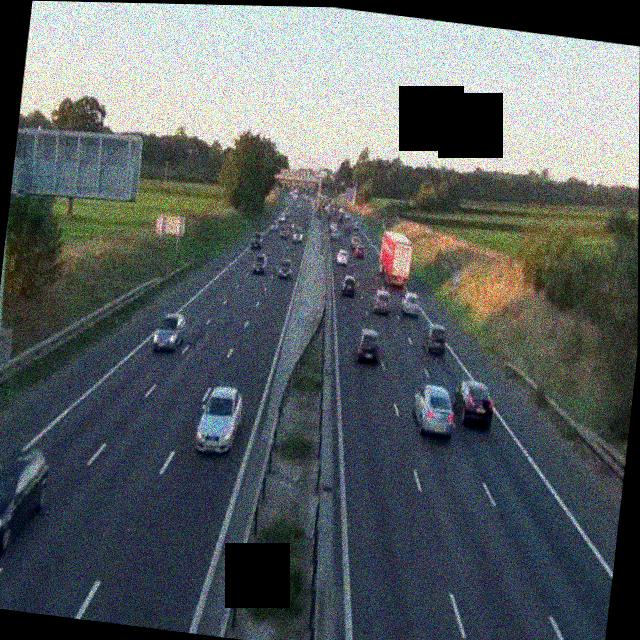car: (0, 441, 52, 568), (193, 382, 243, 455), (410, 382, 456, 440), (451, 378, 497, 429), (152, 310, 188, 354), (353, 327, 382, 365), (421, 323, 448, 357), (370, 288, 393, 316), (398, 291, 421, 318), (339, 272, 357, 296), (251, 252, 268, 274), (276, 256, 292, 278), (335, 246, 349, 266), (248, 231, 262, 250), (353, 241, 367, 259), (291, 226, 305, 244), (280, 226, 291, 240), (330, 226, 339, 239)
truck: (376, 228, 414, 288)
